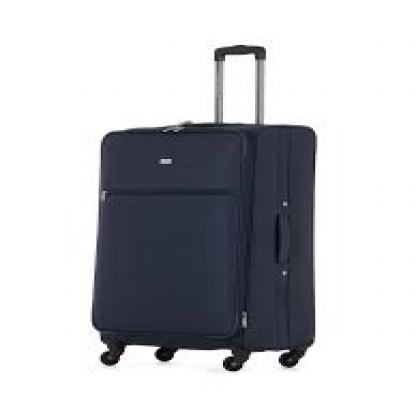maleta: (71, 116, 343, 384)
